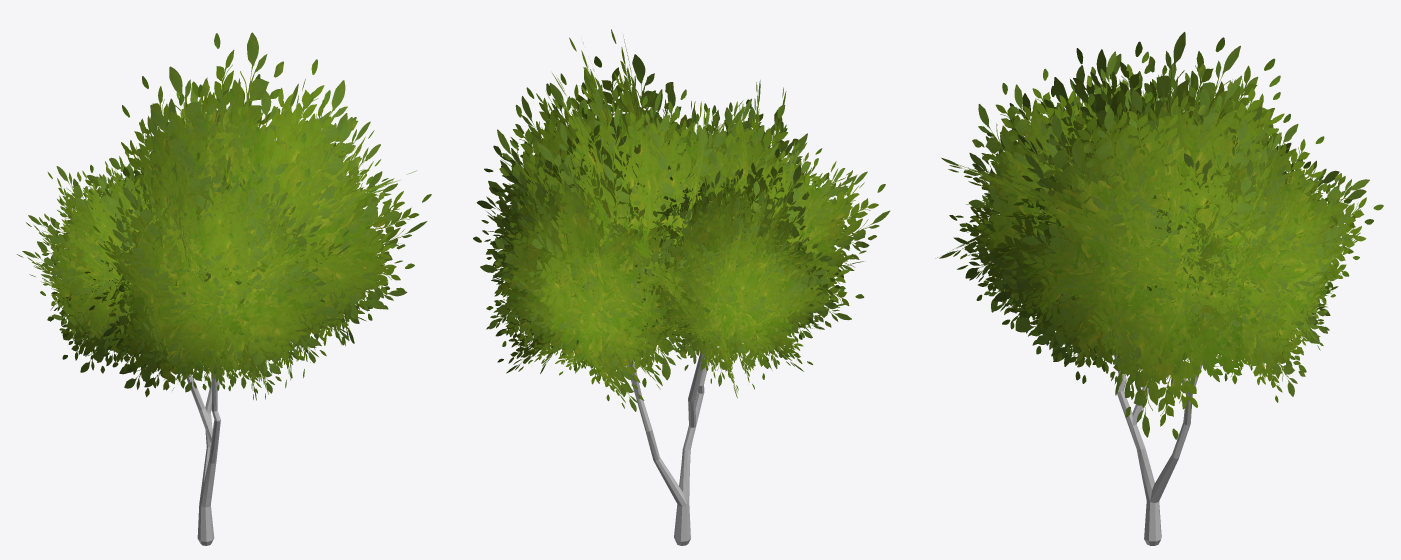
The model's file is tree_mid.FBX.
3 views of the same model, side by side, from view 1: azimuth 30°, elevation 25°; view 2: azimuth 150°, elevation 25°; view 3: azimuth 270°, elevation 25° (orthographic). The views are drawn at different scales.
Parts seen in each view (by area): view 1: leaves, tree004; view 2: leaves, tree004; view 3: leaves, tree004.
Part boxes in pixels (x1,y1,x2,y2): leaves: (17,32,431,400); tree004: (186,367,224,545); leaves: (473,29,889,411); tree004: (626,348,708,545); leaves: (935,32,1383,439); tree004: (1114,352,1202,545).
Bounding box in the file's own units: 40.06 × 48.33 × 37.53.
